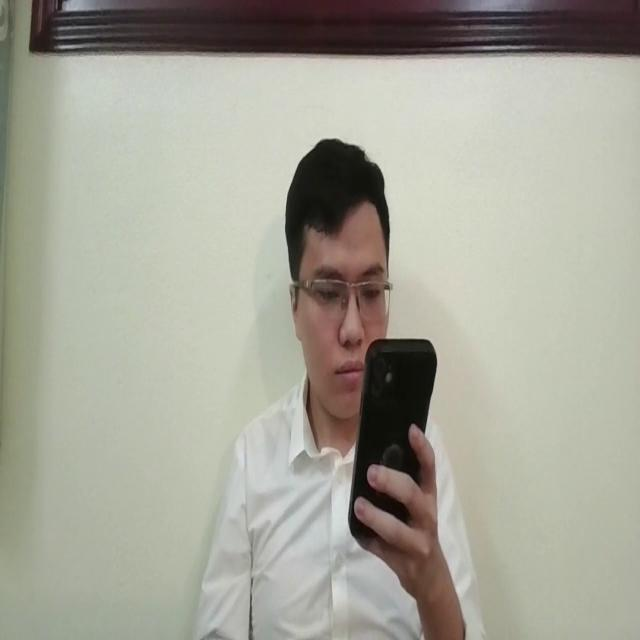phone: (346, 327, 438, 553)
student: (194, 130, 487, 640)
